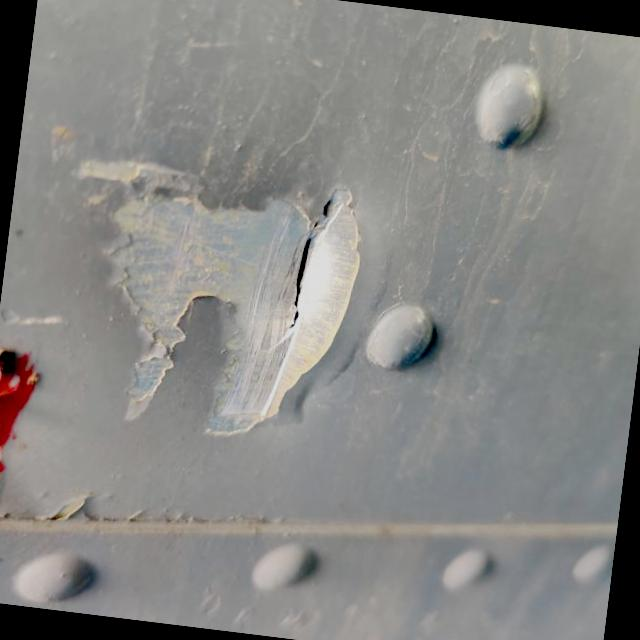crack: (256, 172, 354, 364)
paint-off: (39, 116, 396, 471)
